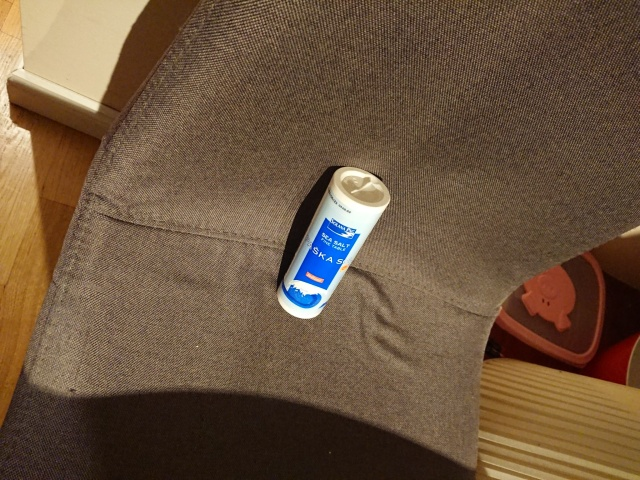Solana Pag Fine Sea Salt 250g: (270, 162, 396, 323)
